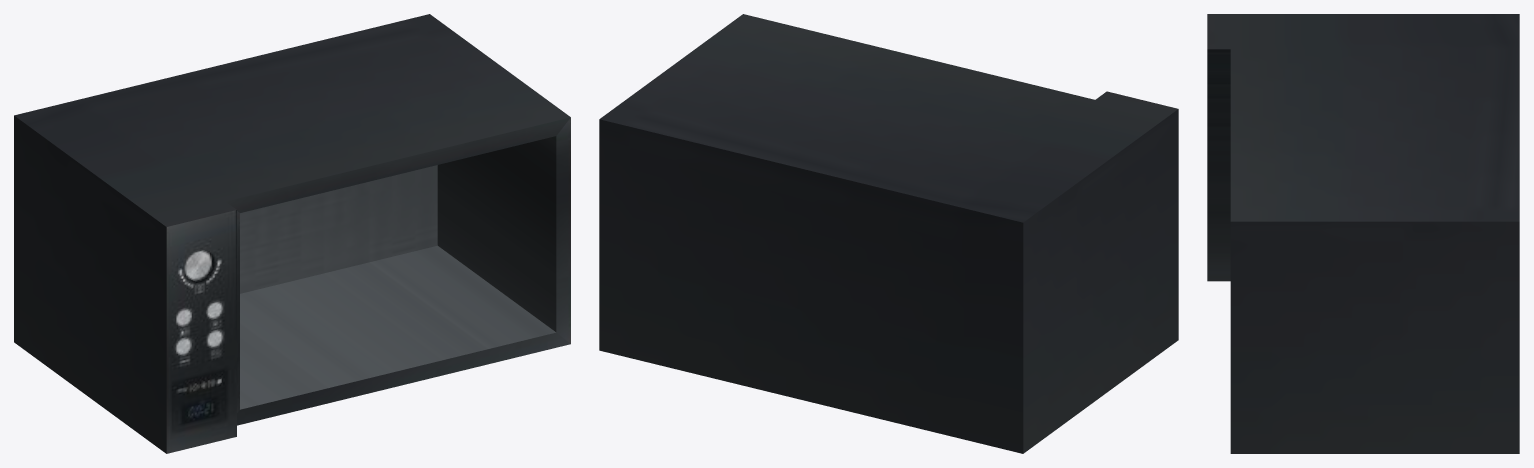
The model's file is Microwave_02.glb.
The picture shows the model from 3 angles, left to right: view 1: azimuth 30°, elevation 25°; view 2: azimuth 150°, elevation 25°; view 3: azimuth 270°, elevation 25°; orthographic projection. The views are drawn at different scales.
Visible parts, largest first — view 1: Microwave_02; view 2: Microwave_02; view 3: Microwave_02.
Part boxes in pixels (x1,y1,x2,y2): Microwave_02: [14, 14, 570, 453]; Microwave_02: [599, 14, 1178, 453]; Microwave_02: [1207, 14, 1519, 453].
Bounding box in the file's own units: 0.6887 × 0.3591 × 0.4376.
1 material, 1 textured.
